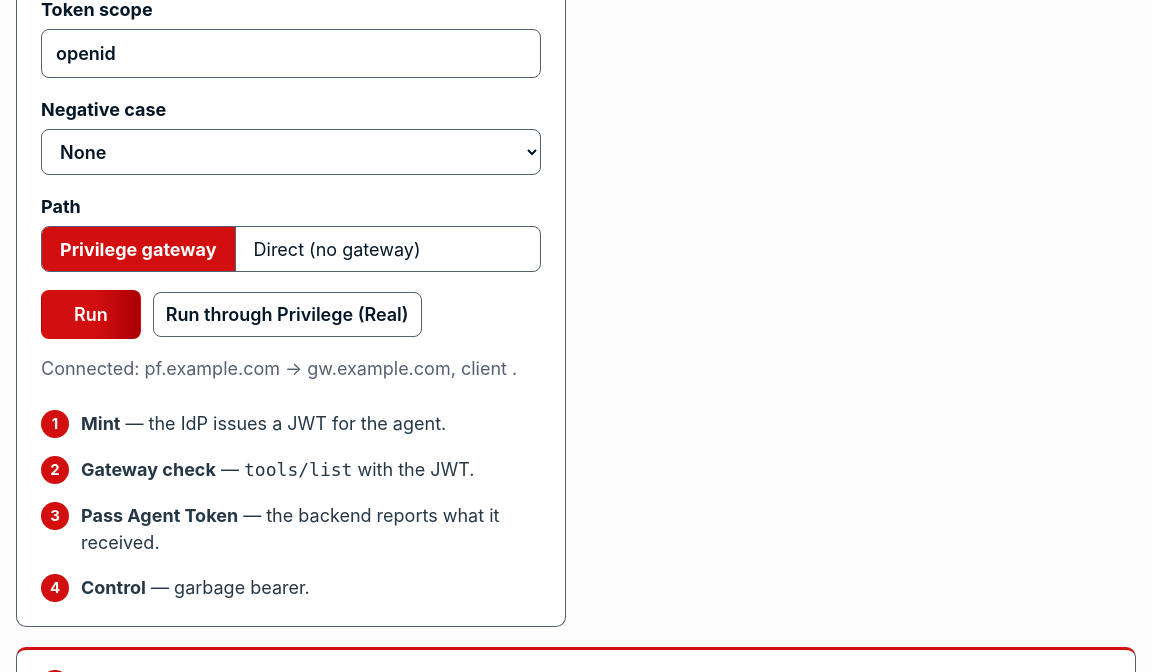
Workload Identity Lab › real trace: inferred decisions are labelled as such, and an unreachable gateway shows no response
The image size is (1152, 672).
(page scrolled)
Click the button with test id "run-btn" at (91, 315), box [41, 290, 141, 339]
(page scrolled)
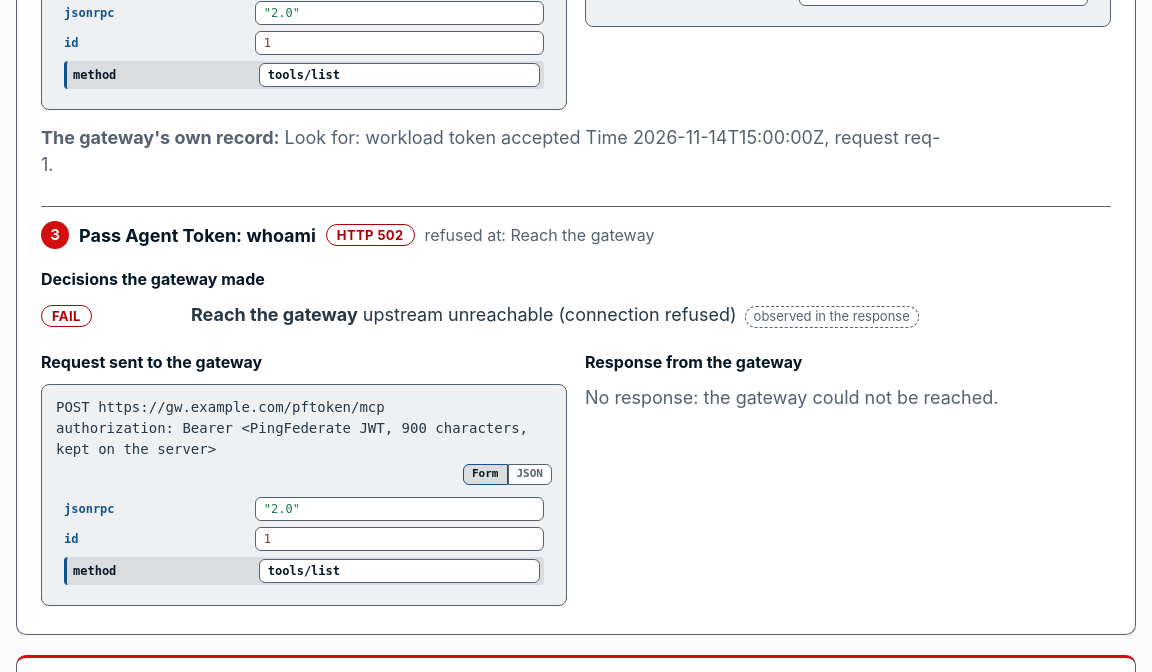
Expected: the element with test id "trace-2" shows "request req-1", [41, 127, 940, 175]
Expected: the text with test id "trace-3-response" shows "No response", [585, 387, 998, 408]
Expected: the list with test id "trace-3-decisions" shows "connection refused", [363, 304, 737, 325]
